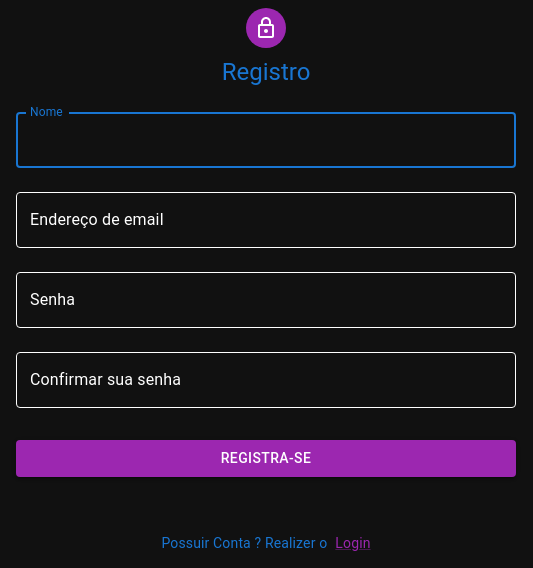
Register Page › should return error message, if the email is invalid
In the field labelled "Nome": (266, 140) [16, 112, 516, 168], type "myName"
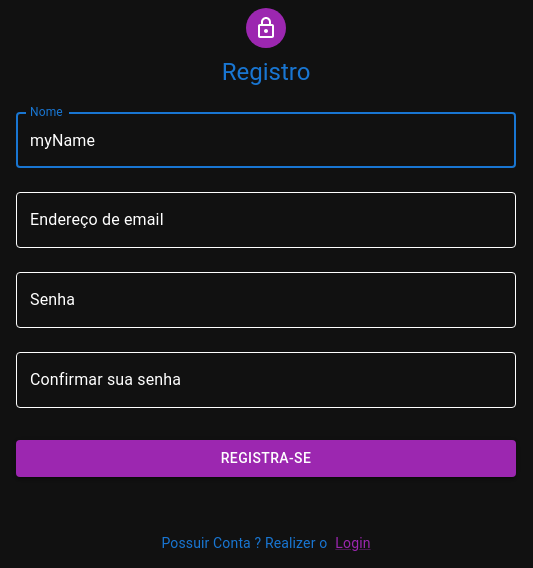
In the field labelled "Endereço de email": (266, 220) [16, 192, 516, 248], type "email"
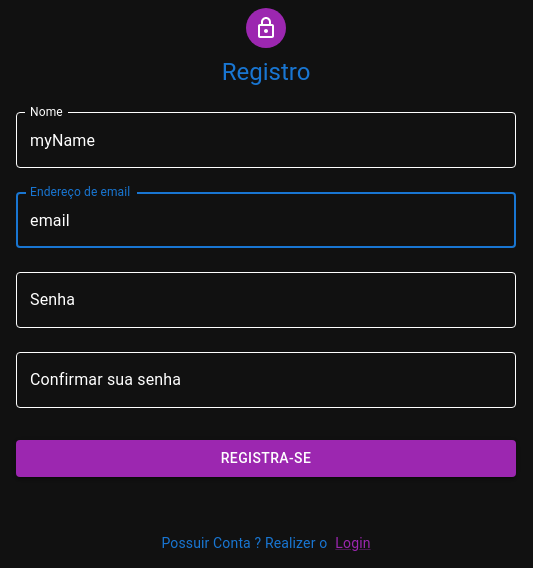
Click the button "Registra-se": click(266, 458) [16, 440, 516, 476]
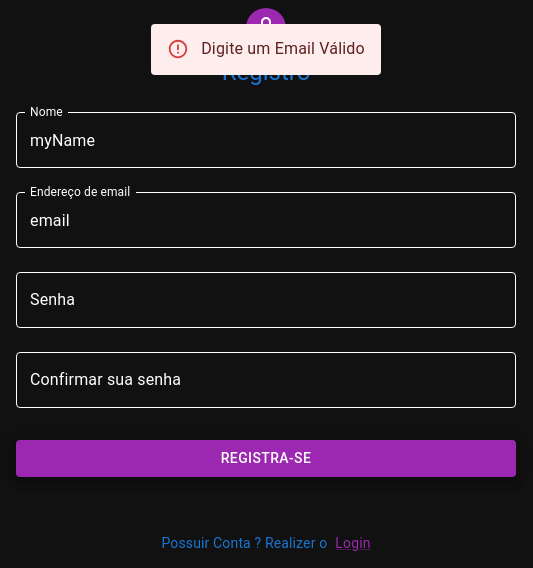
Now the text "Digite um Email Válido" is shown, box [201, 39, 365, 58]
